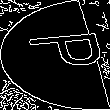P_E: (7, 33, 103, 77)
